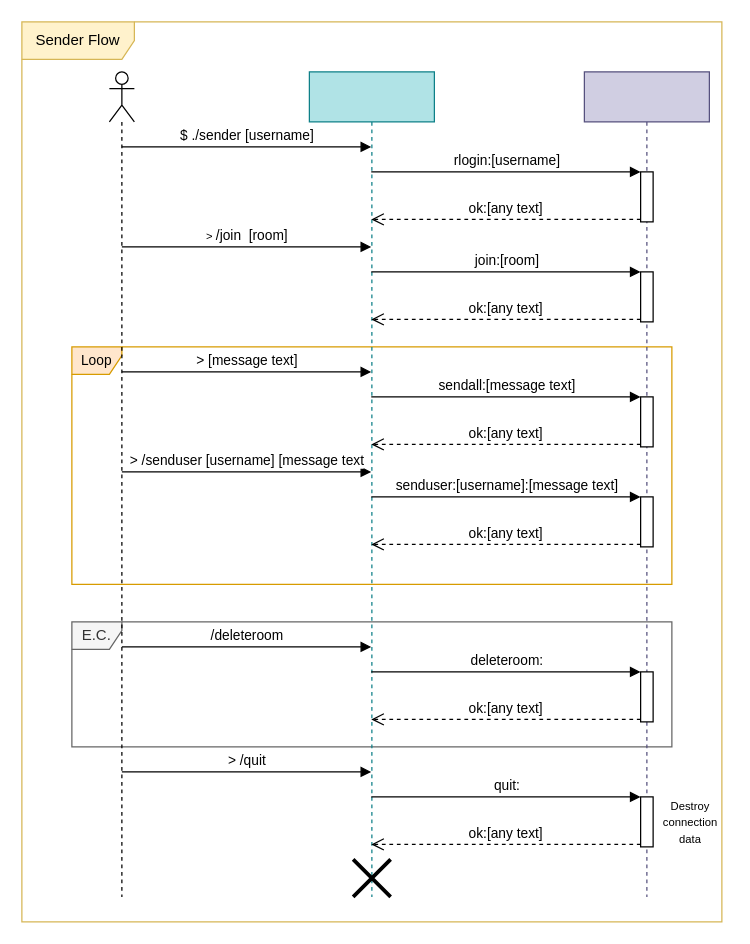
The diagram is 750 pixels wide and 944 high, and some of its shapes have lost their labels. Here are the shapes that lost their labels. From the top down, the box of each, then its label:
(308, 71, 434, 897): Client
(583, 71, 709, 897): Server
